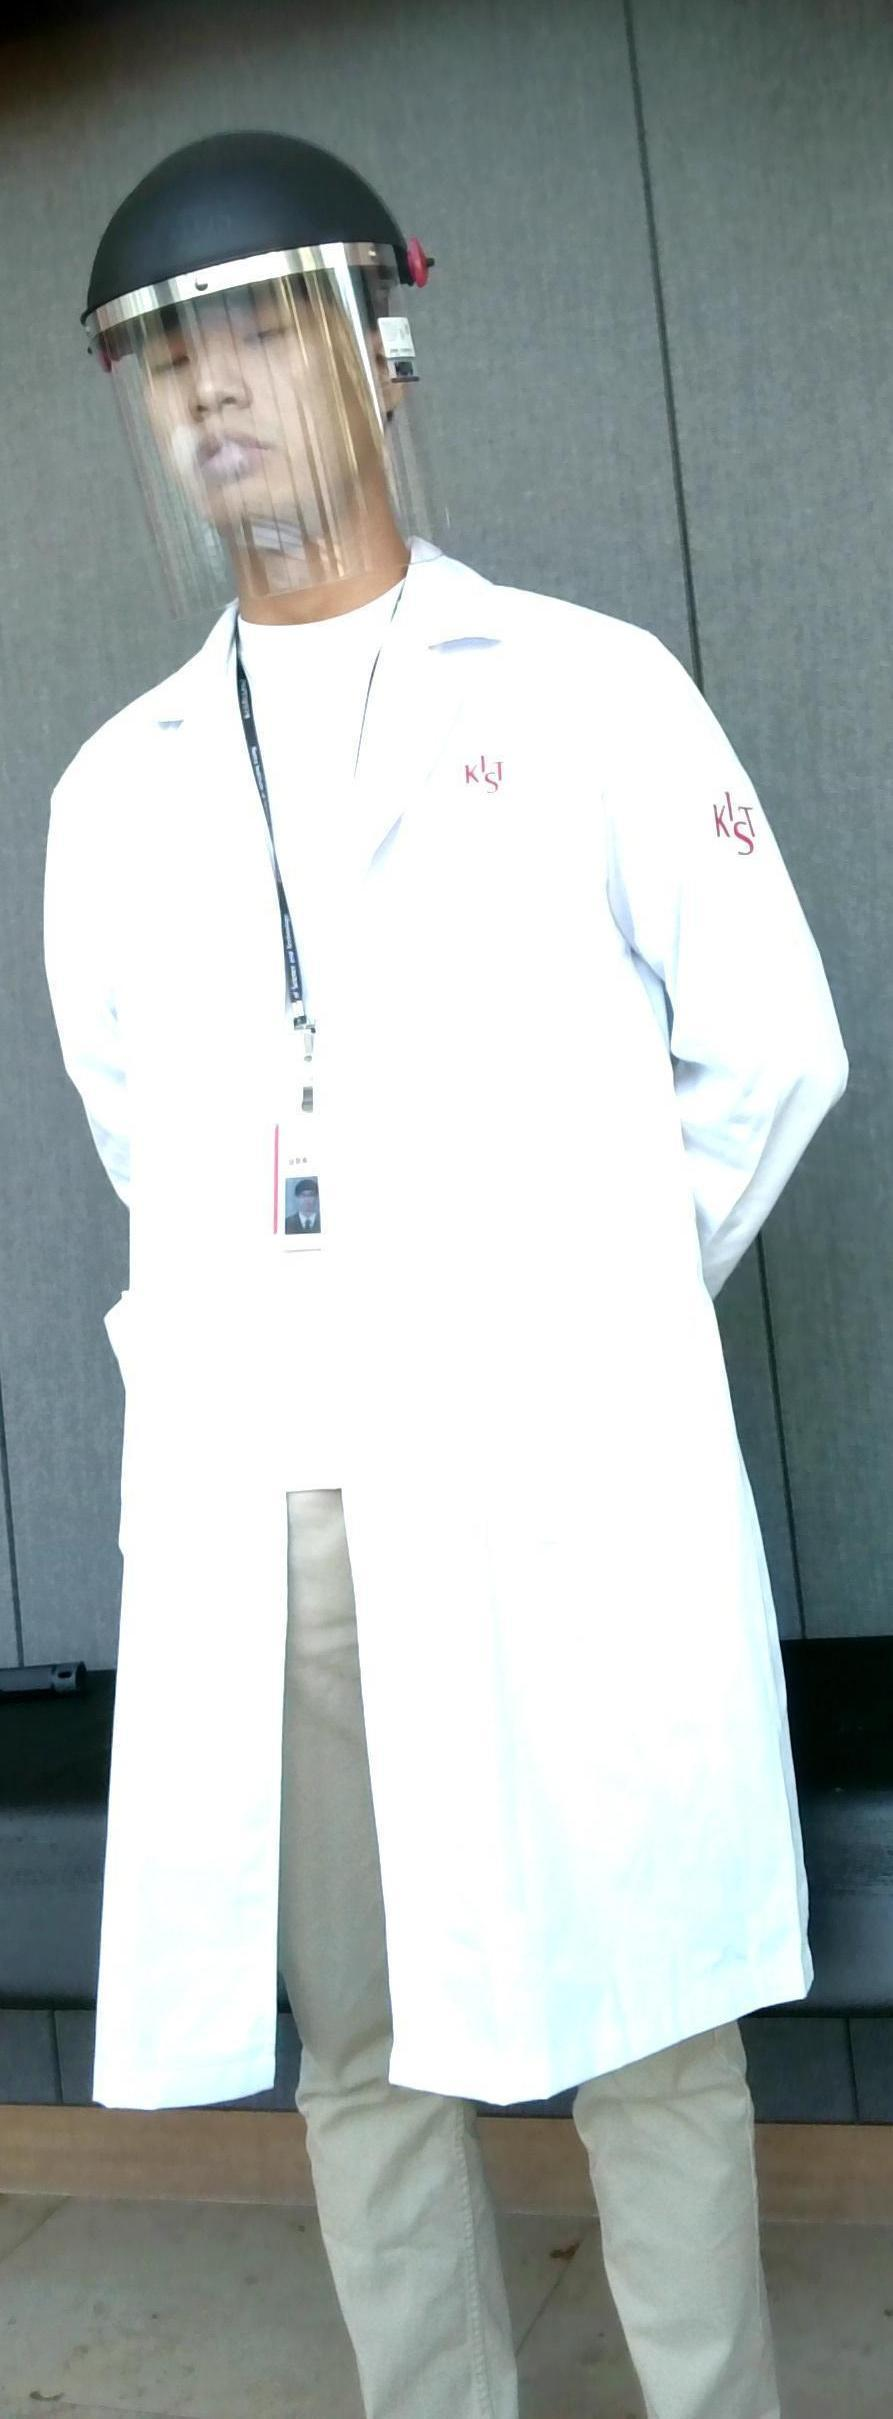lab_coat: (6, 622, 839, 2035)
